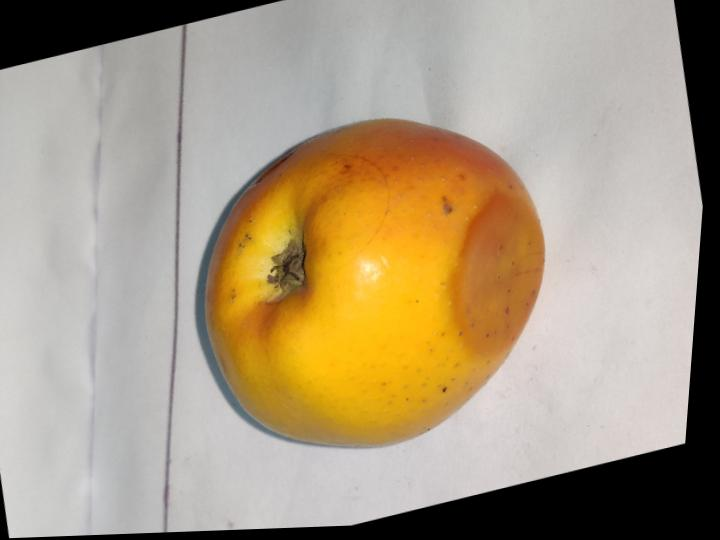apple: (206, 119, 545, 445)
bruise_discoloration: (459, 194, 544, 350)
